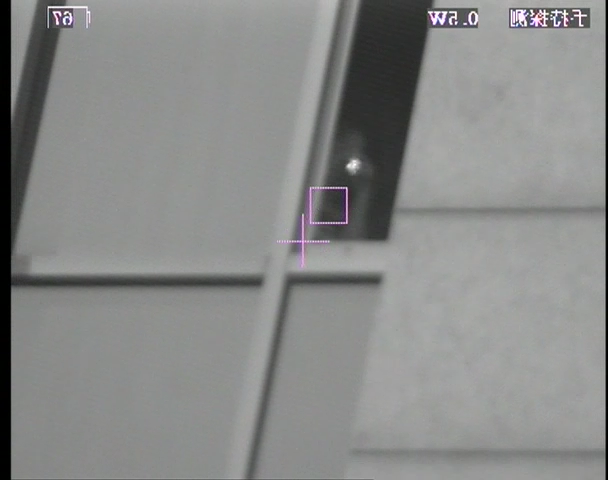my: (345, 157, 361, 175)
